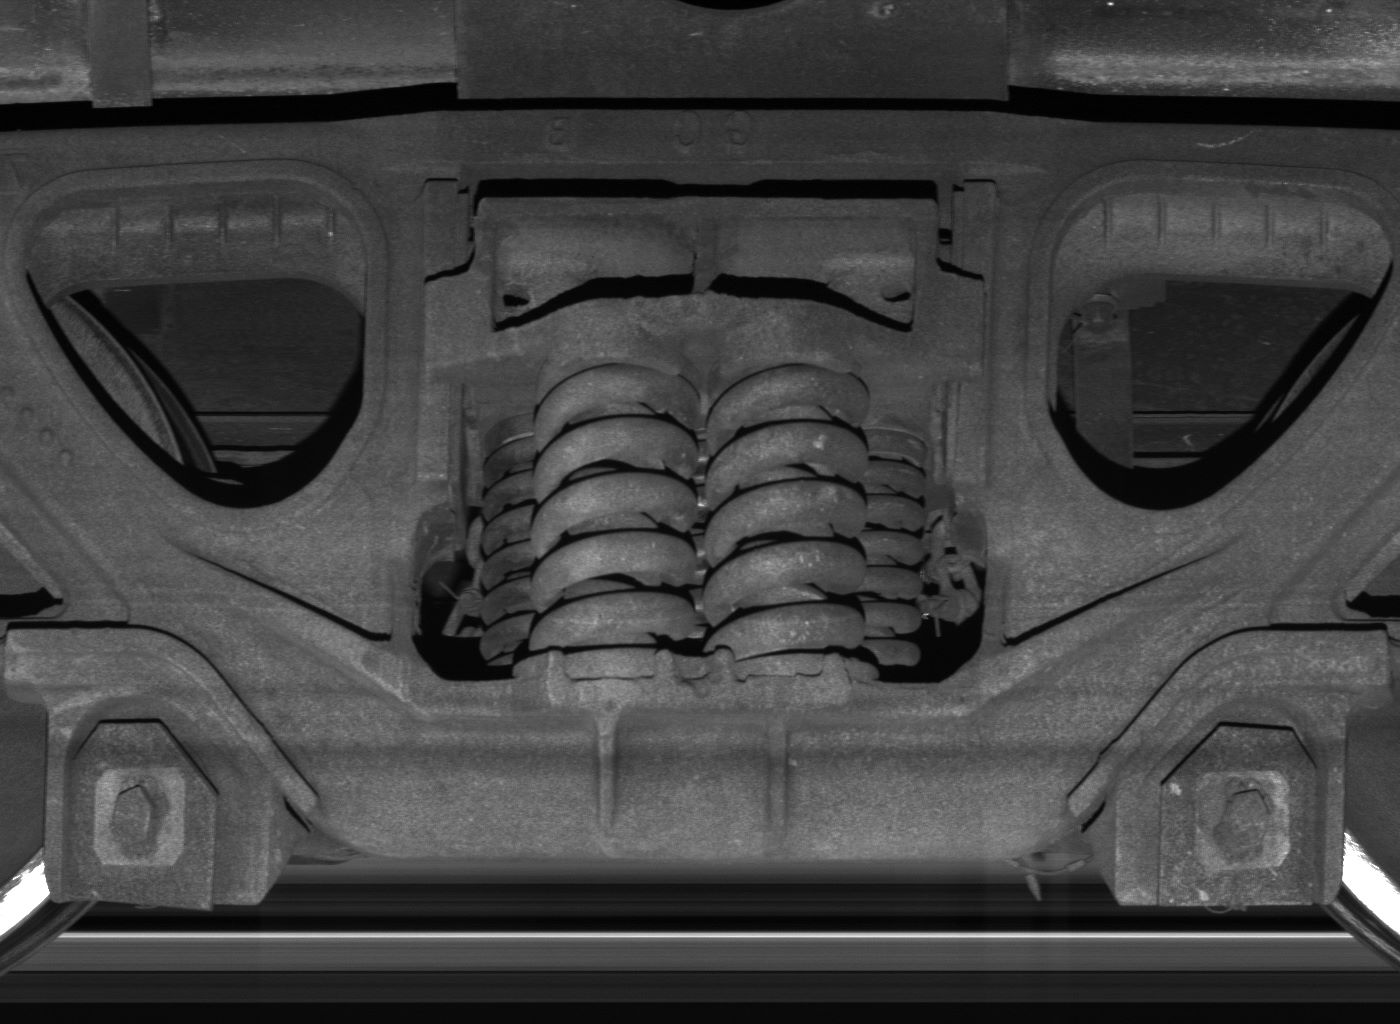normal: (46, 696, 268, 911), (1115, 699, 1346, 907)
